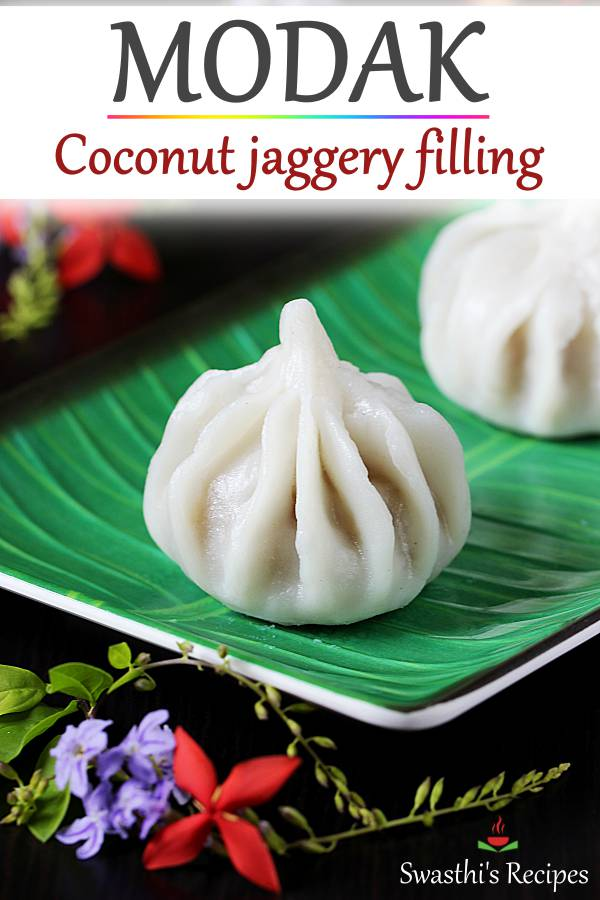modak: (141, 299, 480, 615)
